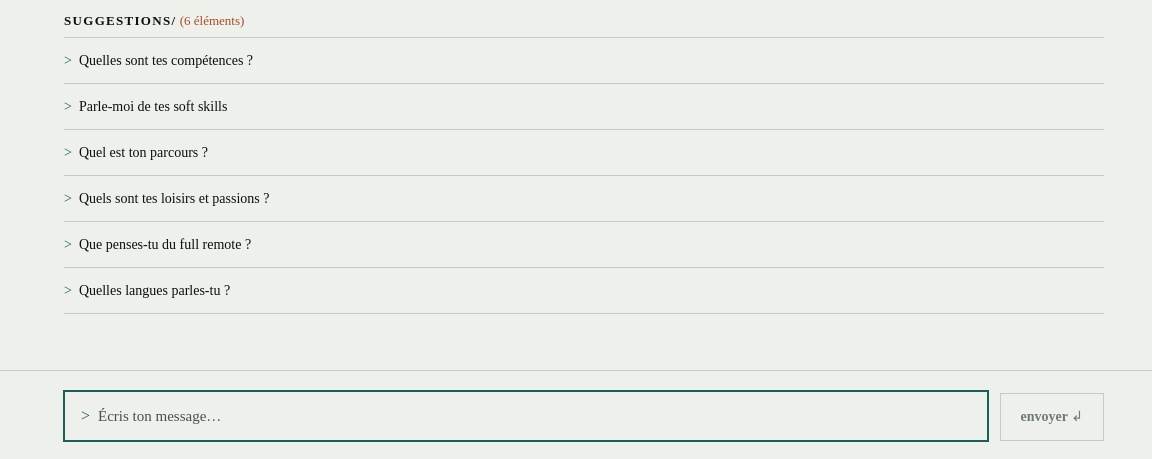
ChatInterface › affiche le placeholder de réflexion après l'envoi
Type "Bonjour" into the text box named "message à envoyer".
click(534, 416); type("Bonjour")  # box [98,404,971,428]
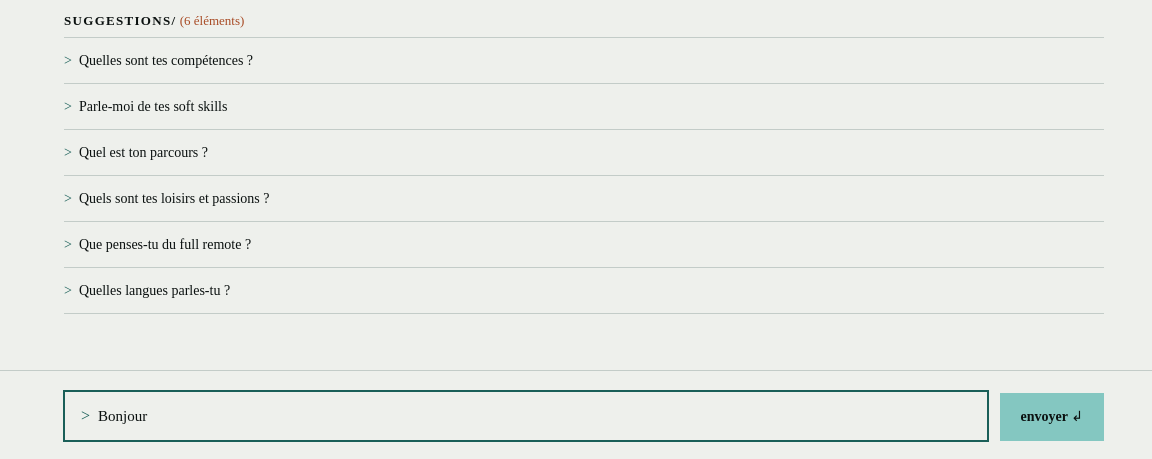
Click the button "envoyer ↲".
click(1052, 416)  # box [1000,392,1104,440]
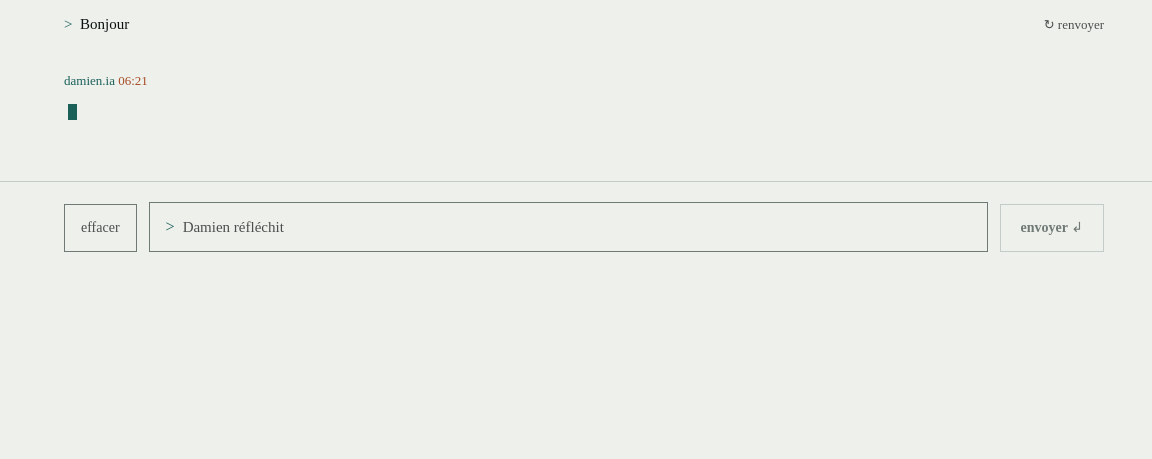
Now the message with test id "thinking-phrase" is shown, box [68,104,77,120]
